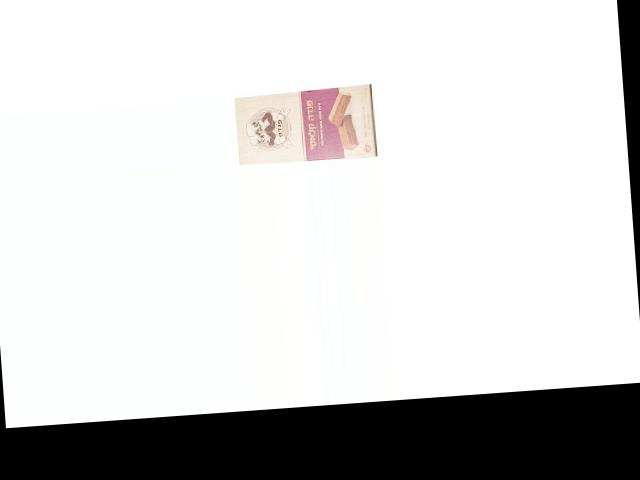chocolate: (233, 82, 377, 164)
